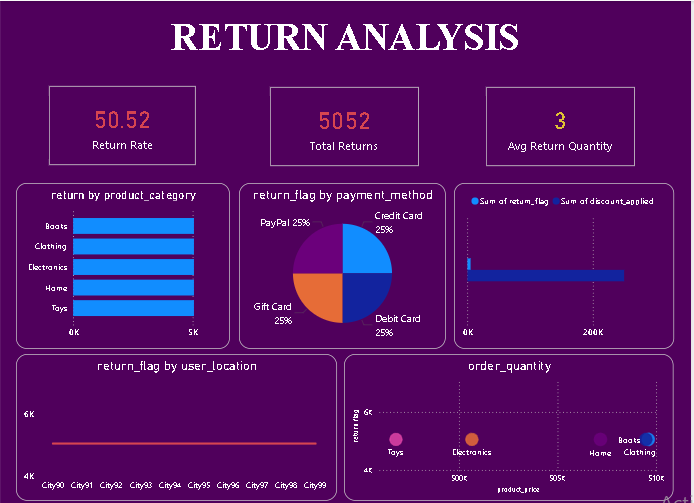

This screenshot's page, from the dashboard's own definition file:
{"tool":"powerbi","page":{"name":"Return Analysis","canvas":[1280,720],"ordinal":1},"visuals":[{"type":"textbox","box":[302,0,978,120],"z":0},{"type":"textbox","box":[0,0,302,720],"z":1000},{"type":"card","fields":{"Values":["5 1  model_dataset.Return Rate"]},"box":[371.7,120,208.3,111.7],"z":2000},{"type":"card","fields":{"Values":["5 1  model_dataset.Avg Quantity"]},"box":[990.9,121.2,210.6,112.1],"z":3000},{"type":"clusteredBarChart","fields":{"Y":["Sum(6 2 final_dataset.return_flag)","Sum(data.discount_applied)"]},"box":[945,258.3,311.7,235],"z":4000},{"type":"pieChart","title":"return_flag by payment_method","fields":{"Category":["data.payment_method"],"Y":["Sum(6 2 final_dataset.return_flag)"]},"box":[640,258.3,293.3,235],"z":5000},{"type":"clusteredBarChart","title":"return by product_category","fields":{"Category":["data.product_category"],"Y":["Sum(6 2 final_dataset.return_flag)"]},"box":[325,258.3,303.3,235],"z":6000},{"type":"slicer","fields":{"Values":["data.product_category"]},"box":[71.2,466.7,160.6,54.5],"z":7000},{"type":"slicer","fields":{"Values":["data.user_location"]},"box":[71.2,521.2,160.6,62.1],"z":8000},{"type":"slicer","fields":{"Values":["data.payment_method"]},"box":[71.4,572.9,160,60],"z":9000},{"type":"lineChart","fields":{"Category":["data.user_location"],"Y":["Sum(6 2 final_dataset.return_flag)"]},"box":[325,500,455,208.3],"z":10000},{"type":"pageNavigator","box":[19.8,138.9,262.2,243.8],"z":11000},{"type":"card","fields":{"Values":["5 1  model_dataset.Total Returns"]},"box":[684.8,121.2,210.6,112.1],"z":12000},{"type":"slicer","fields":{"Values":["data.product_price"]},"box":[48.5,625.8,206.1,81.8],"z":13000},{"type":"scatterChart","title":"order_quantity ","fields":{"X":["Sum(data.product_price)"],"Y":["Sum(6 2 final_dataset.return_flag)"],"Size":["Sum(data.order_quantity)"],"Series":["data.product_category"]},"box":[790,500,466.7,208.3],"z":14000}]}

Visuals, with their boxes on the page's 1280x720 design canvas (x1, y1, x2, y2). These are canvas units, not pixel positions in the 694x503 screenshot, which may show the page scaled, cropped or inside an application window:
textbox: (x1=302, y1=0, x2=1280, y2=120)
textbox: (x1=0, y1=0, x2=302, y2=720)
card - 5 1  model_dataset.Return Rate: (x1=372, y1=120, x2=580, y2=232)
card - 5 1  model_dataset.Avg Quantity: (x1=991, y1=121, x2=1202, y2=233)
clusteredBarChart - Sum(6 2 final_dataset.return_flag) x Sum(data.discount_applied): (x1=945, y1=258, x2=1257, y2=493)
"return_flag by payment_method" pieChart: (x1=640, y1=258, x2=933, y2=493)
"return by product_category" clusteredBarChart: (x1=325, y1=258, x2=628, y2=493)
slicer - data.product_category: (x1=71, y1=467, x2=232, y2=521)
slicer - data.user_location: (x1=71, y1=521, x2=232, y2=583)
slicer - data.payment_method: (x1=71, y1=573, x2=231, y2=633)
lineChart - data.user_location x Sum(6 2 final_dataset.return_flag): (x1=325, y1=500, x2=780, y2=708)
pageNavigator: (x1=20, y1=139, x2=282, y2=383)
card - 5 1  model_dataset.Total Returns: (x1=685, y1=121, x2=895, y2=233)
slicer - data.product_price: (x1=48, y1=626, x2=255, y2=708)
"order_quantity " scatterChart: (x1=790, y1=500, x2=1257, y2=708)
